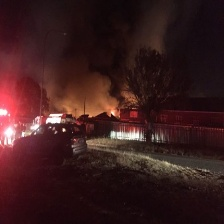smoke: (4, 20, 121, 106)
